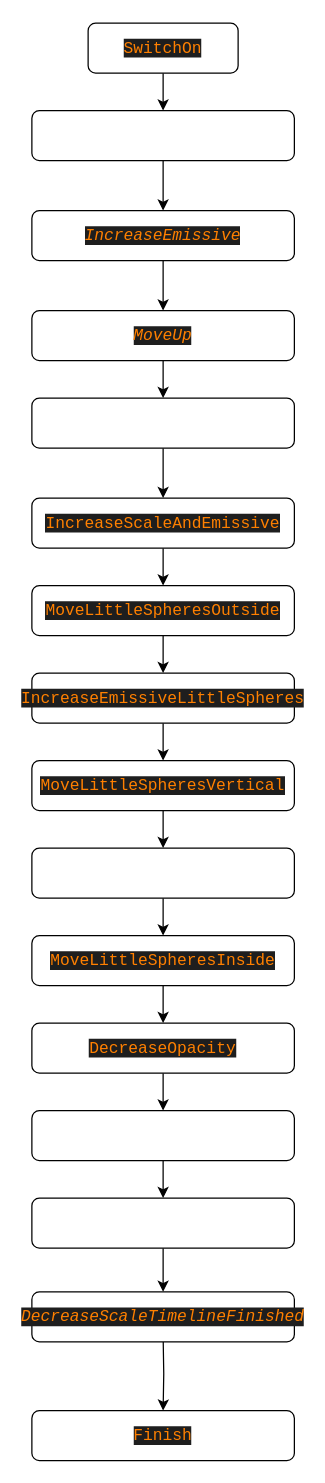
Some shapes in this 325 by 1483 pixel diagram are drawn without their labels. The centre of each missing label's shape, as x and y in pixels:
"DecreaseEmissiveLittleSpheres" belongs at [162,872].
"DecreaseScaleAndOpacity" belongs at [162,1222].
"MoveBigSphereDown" belongs at [162,1135].
"MoveToCharacter" belongs at [162,422].
"SetEnableCharacterMovement" belongs at [162,135].
